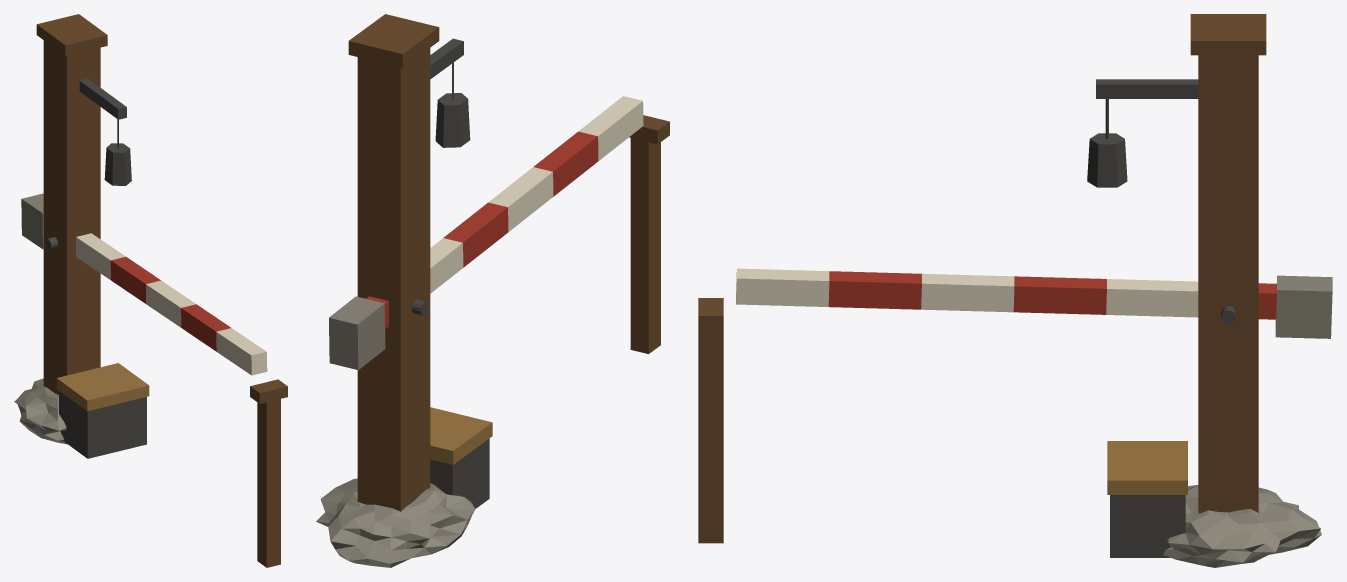
File: toll-post.glb
The picture shows the model from 3 angles, left to right: view 1: azimuth 30°, elevation 25°; view 2: azimuth 150°, elevation 25°; view 3: azimuth 270°, elevation 25°; orthographic projection. The views are drawn at different scales.
Visible parts, largest first — view 1: Body_Wood, Body_Iron, Body_Second, Body_Stone, Body_Trim, Body_Main; view 2: Body_Wood, Body_Stone, Body_Second, Body_Iron, Body_Main, Body_Trim; view 3: Body_Wood, Body_Stone, Body_Second, Body_Iron, Body_Main, Body_Trim.
Boxes of the visible parts, left/top/right/bottom form: Body_Wood: left=36, top=14, right=287, bottom=567; Body_Iron: left=45, top=78, right=146, bottom=458; Body_Second: left=76, top=233, right=267, bottom=375; Body_Stone: left=14, top=193, right=67, bottom=444; Body_Trim: left=56, top=363, right=149, bottom=411; Body_Main: left=110, top=257, right=230, bottom=351; Body_Wood: left=348, top=14, right=669, bottom=511; Body_Stone: left=316, top=296, right=475, bottom=567; Body_Second: left=430, top=96, right=643, bottom=293; Body_Iron: left=412, top=38, right=489, bottom=508; Body_Main: left=366, top=131, right=598, bottom=329; Body_Trim: left=430, top=407, right=492, bottom=464; Body_Wood: left=698, top=14, right=1266, bottom=543; Body_Stone: left=1163, top=275, right=1332, bottom=567; Body_Second: left=736, top=268, right=1198, bottom=317; Body_Iron: left=1087, top=79, right=1235, bottom=557; Body_Main: left=828, top=271, right=1276, bottom=319; Body_Trim: left=1107, top=441, right=1187, bottom=494.
Size of the model in its own units: 0.6 by 2.2 by 2.4.
